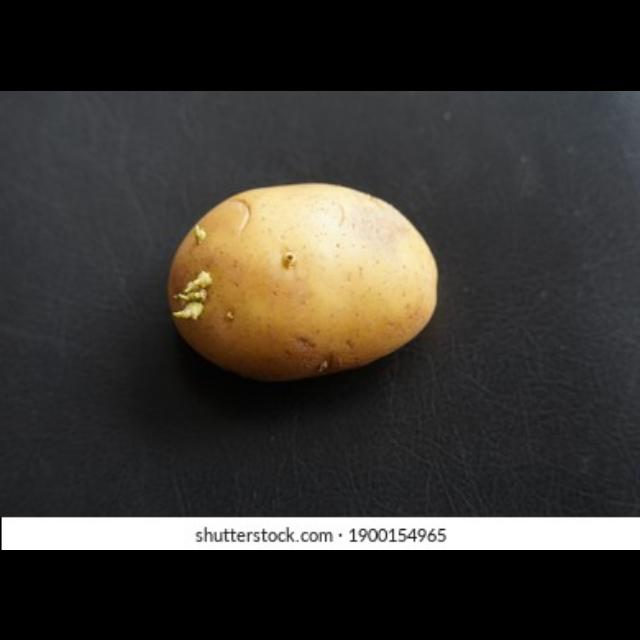Sprouted potato: (160, 182, 444, 382)
